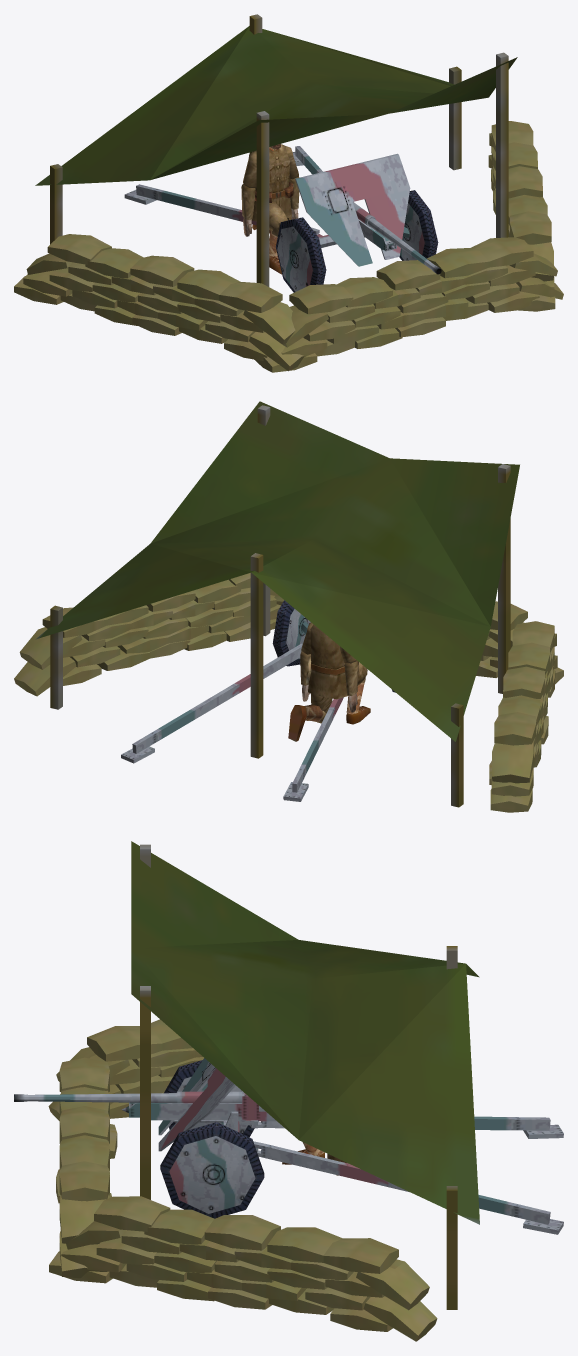
The model's file is JPNType1_47mm_Stationary.dae.
3 renders of one model, top to bottom at view 1: azimuth 30°, elevation 25°; view 2: azimuth 150°, elevation 25°; view 3: azimuth 270°, elevation 25°, orthographic. The views are drawn at different scales.
Parts seen in each view (by area): view 1: base, turret, wheels, trail1, torso1, barrel, rloarm1, sleeve; view 2: base, trail2, torso1, wheels, trail1, rloarm1; view 3: base, wheels, trail2, turret, barrel, sleeve, trail1.
Part boxes in pixels (left/top/right/bottom): base: left=14, top=14, right=563, bottom=372; turret: left=295, top=153, right=410, bottom=266; wheels: left=276, top=190, right=438, bottom=292; trail1: left=124, top=184, right=319, bottom=234; torso1: left=251, top=144, right=293, bottom=221; barrel: left=352, top=202, right=441, bottom=274; rloarm1: left=241, top=184, right=255, bottom=236; sleeve: left=353, top=201, right=396, bottom=251; base: left=14, top=401, right=563, bottom=812; trail2: left=121, top=643, right=302, bottom=763; torso1: left=305, top=624, right=348, bottom=699; wheels: left=272, top=600, right=395, bottom=692; trail1: left=283, top=697, right=343, bottom=801; rloarm1: left=344, top=660, right=358, bottom=712; base: left=48, top=841, right=479, bottom=1341; wheels: left=160, top=1060, right=264, bottom=1218; trail2: left=253, top=1141, right=563, bottom=1234; turret: left=158, top=1058, right=238, bottom=1151; barrel: left=14, top=1091, right=265, bottom=1111; sleeve: left=121, top=1091, right=276, bottom=1121; trail1: left=250, top=1116, right=563, bottom=1138.
Bounding box in the file's own units: 46.2 × 35.5 × 19.82.
Materials: 1 (1 with a texture image).
